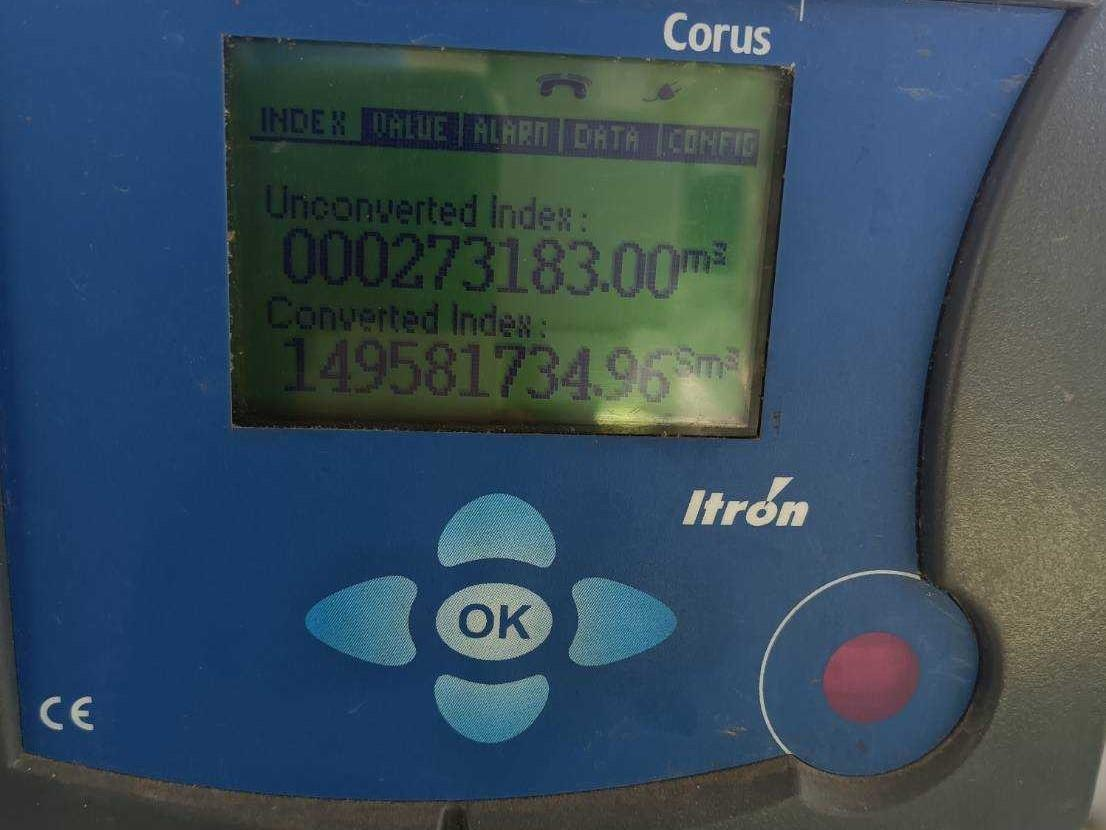digital_screen: (216, 36, 796, 439)
